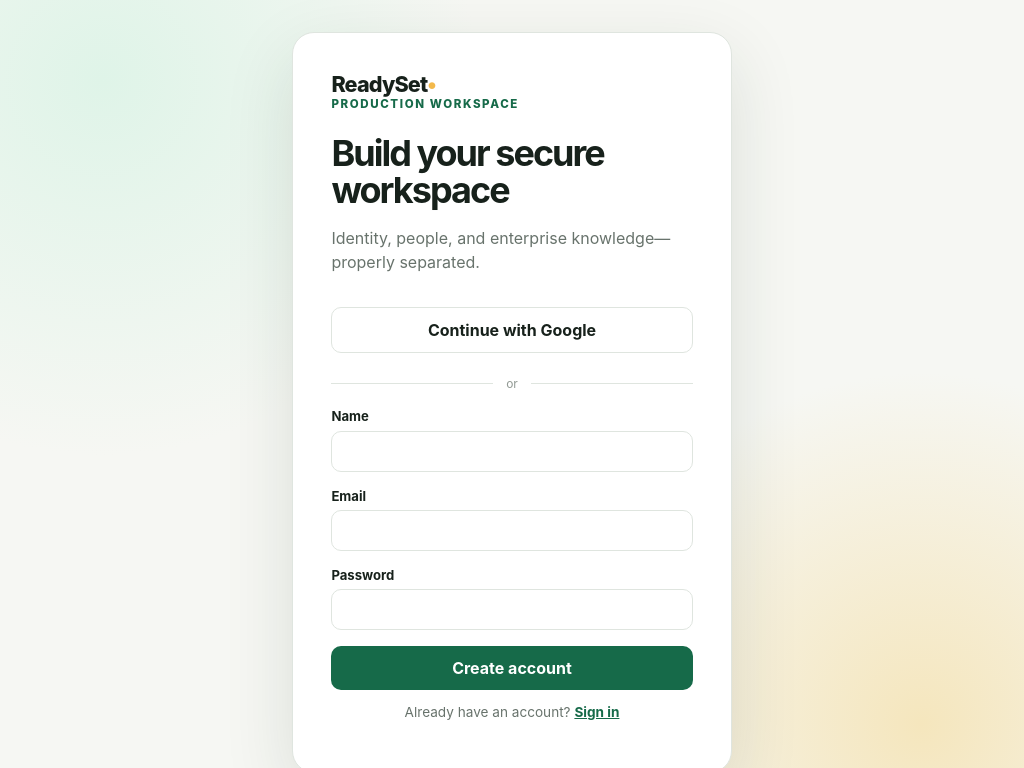
Test: AuthForm › keeps a newly registered user unauthenticated pending verification
Type "New User" into the field labelled "Name".
click(512, 451); type("New User")  # box [331,430,693,472]
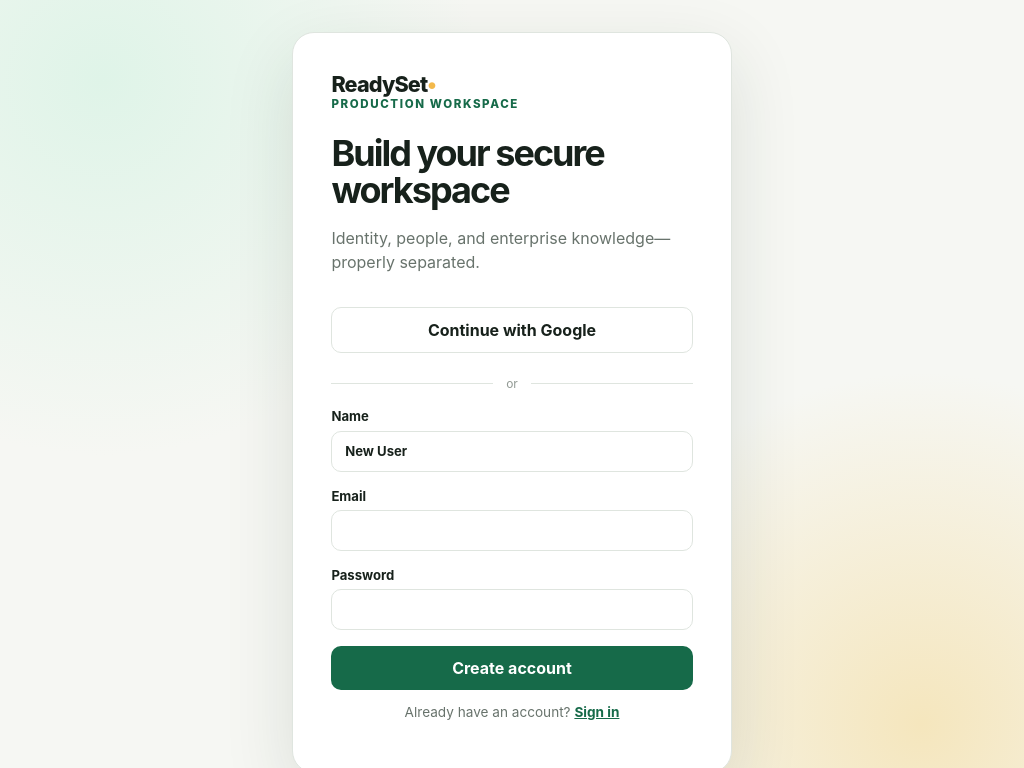
Type "new@example.com" into the field labelled "Email".
click(512, 530); type("new@example.com")  # box [331,510,693,551]
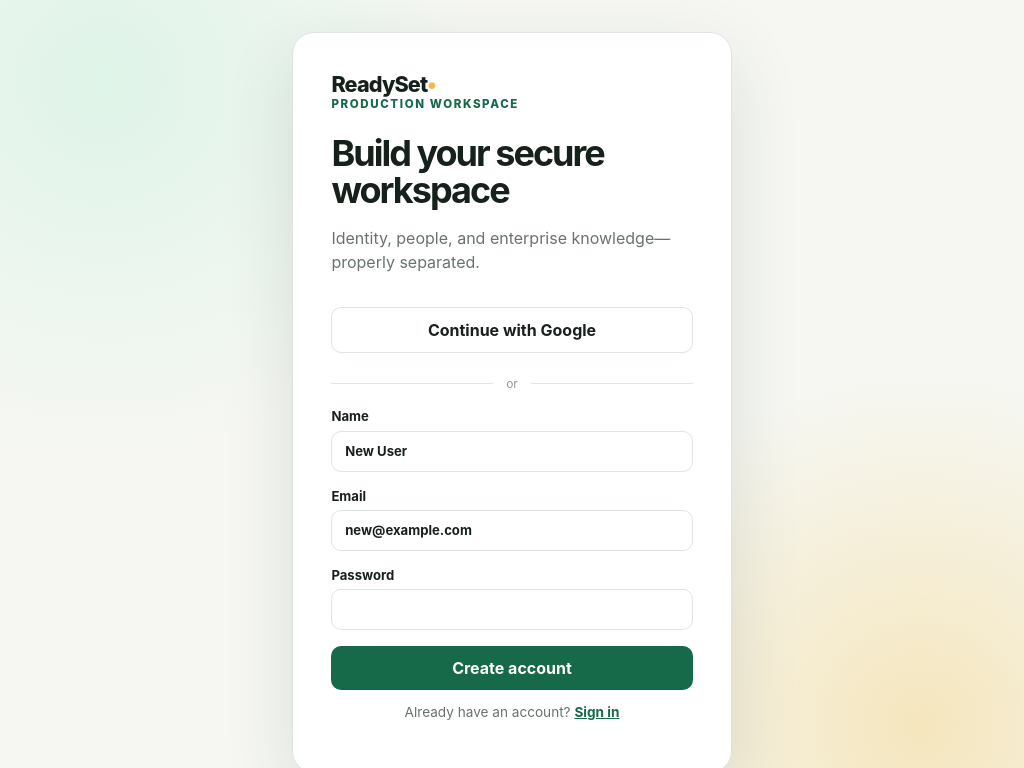
Type "correct horse battery staple" into the password field labelled "Password".
click(512, 610); type("correct horse battery staple")  # box [331,589,693,630]
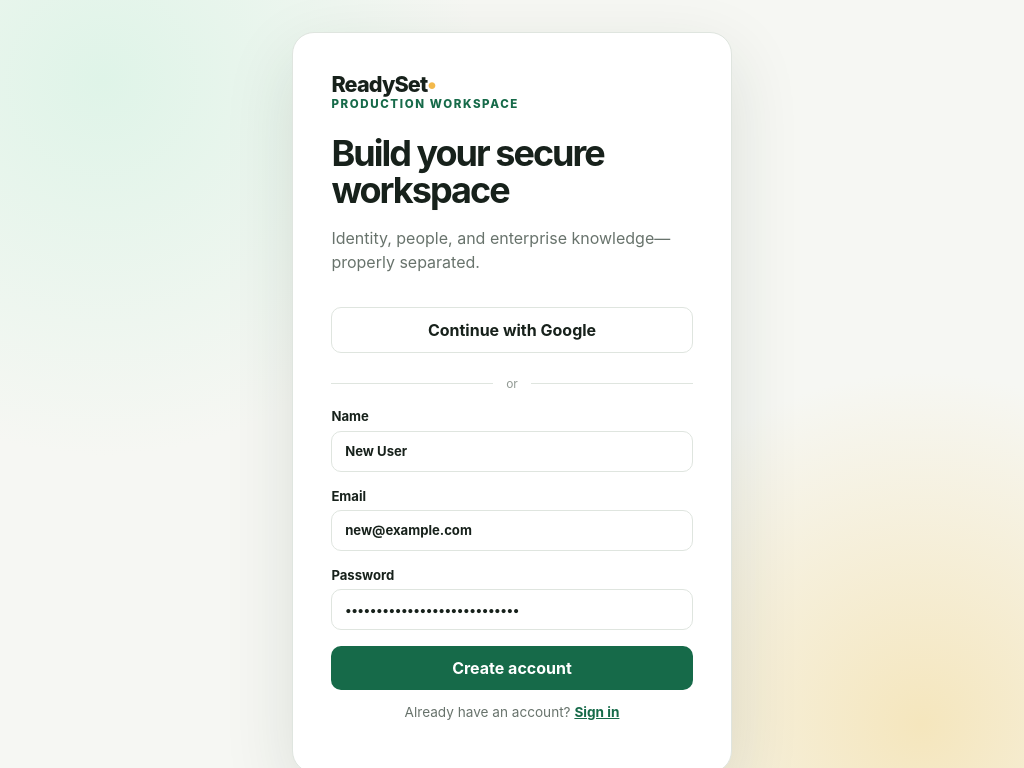
Click the button "Create account".
click(512, 668)  # box [331,646,693,690]
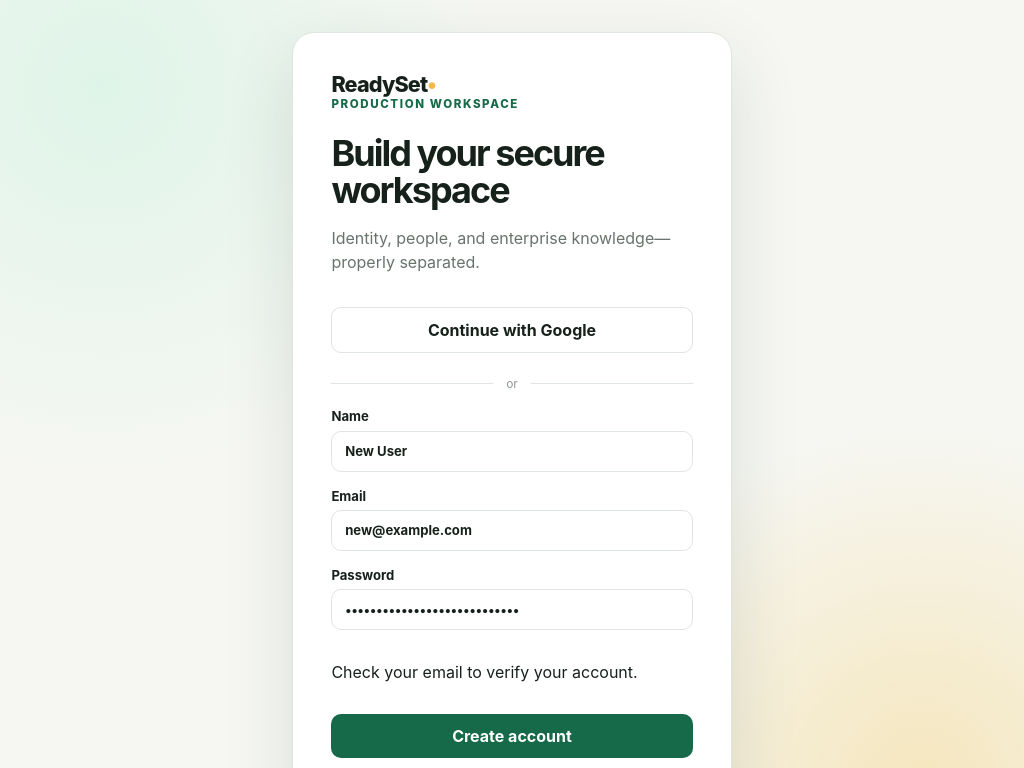
Now the message reads "Check your email to verify your account.", box [331,662,638,682]
